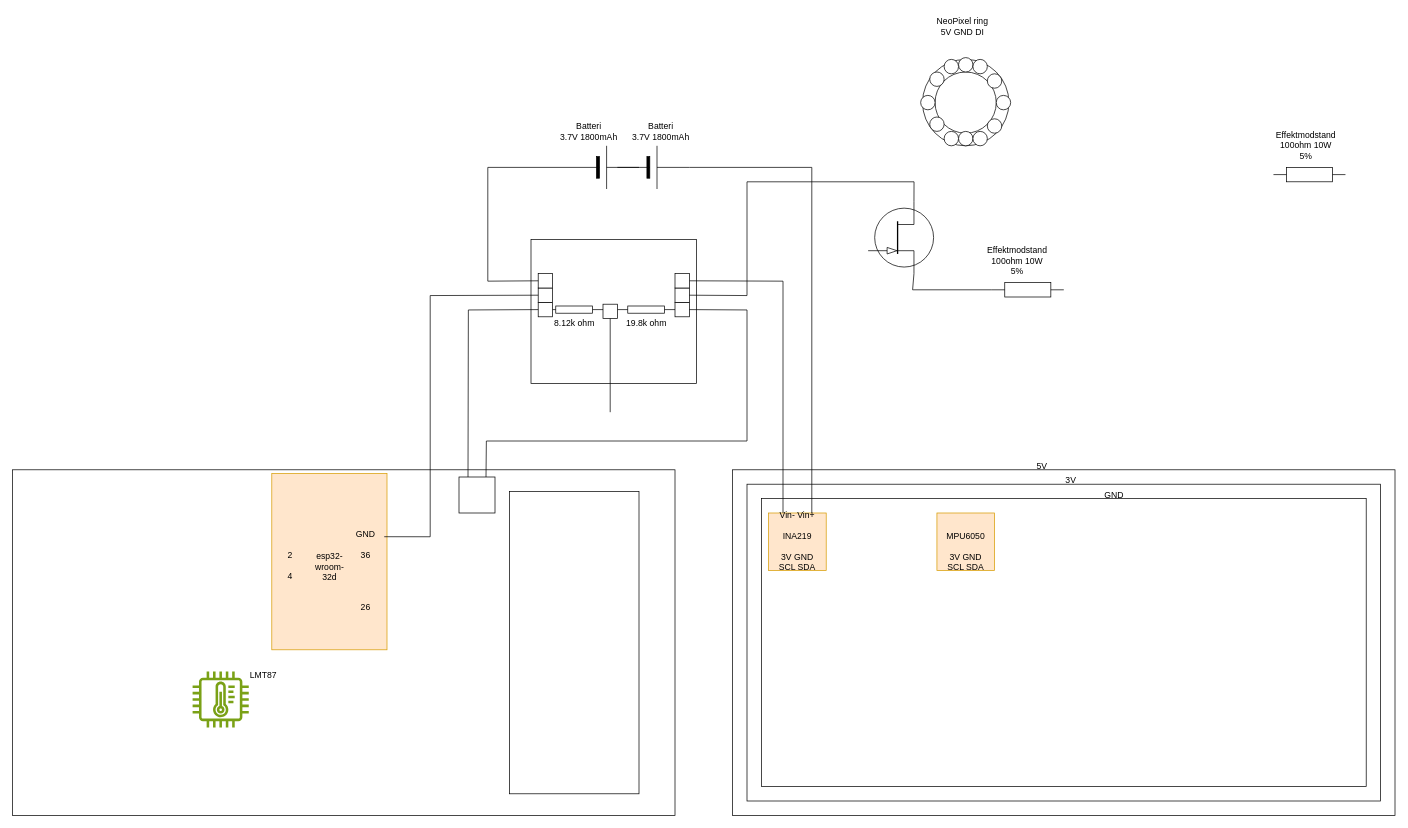
Image size: 1408x828. Some labels were removed from this diagram. The box of each missing label's shape, as (x1, y1, x2, y2) in pixels:
DC-044A: (458, 476, 495, 513)
LCD display: (509, 491, 639, 794)
